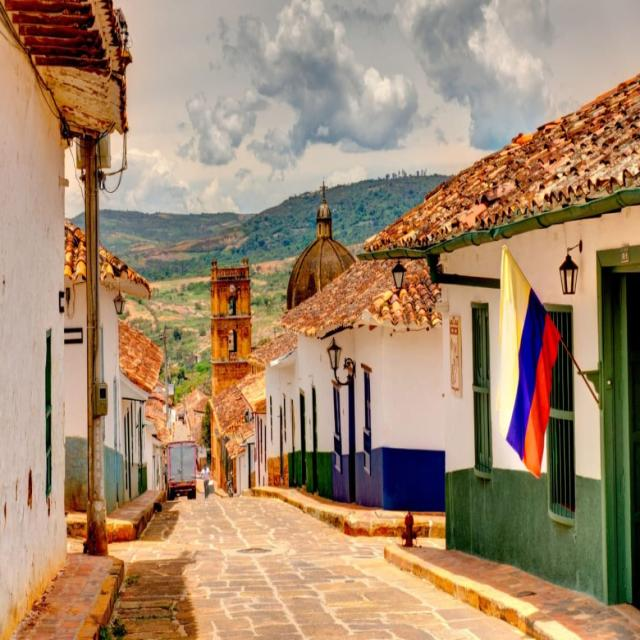Fachada: (365, 74, 640, 605), (1, 0, 127, 637), (284, 260, 445, 511), (61, 220, 150, 513), (283, 334, 334, 499), (119, 322, 161, 499), (263, 331, 297, 485)
Poste: (84, 136, 108, 555)
